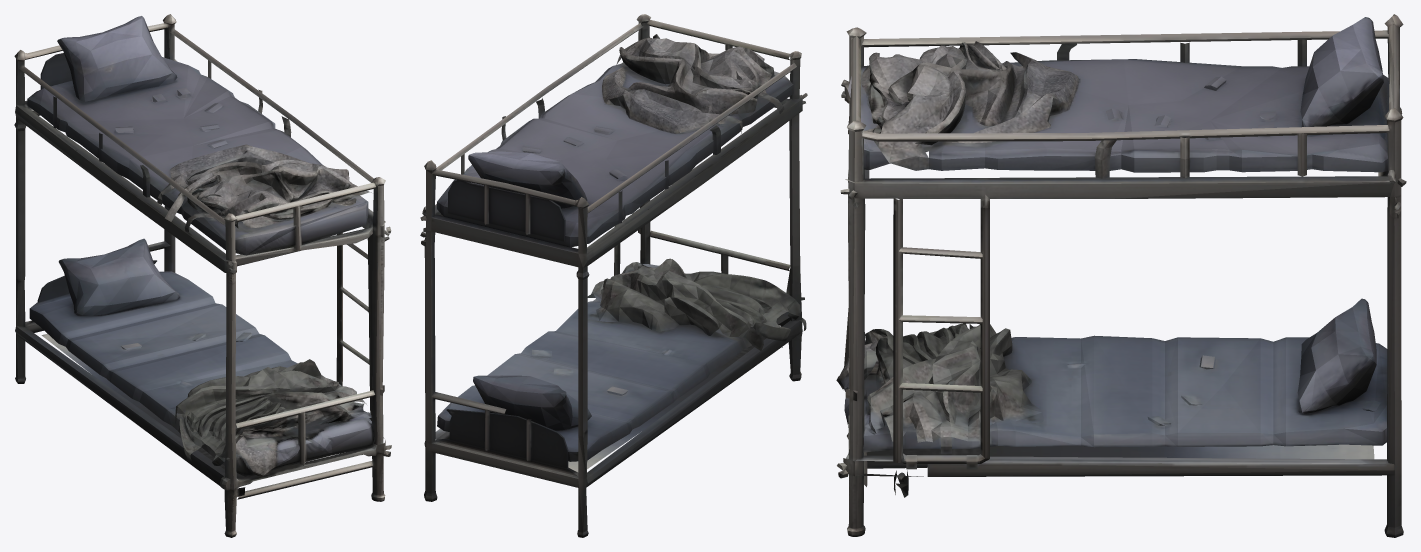
File: Bunk_Bed_2.glb
3 renders of one model, left to right at view 1: azimuth 30°, elevation 25°; view 2: azimuth 150°, elevation 25°; view 3: azimuth 270°, elevation 25°, orthographic. The views are drawn at different scales.
Visible parts, largest first — view 1: Bunk_Bed_2; view 2: Bunk_Bed_2; view 3: Bunk_Bed_2.
Part boxes in pixels (left/top/right/bottom): Bunk_Bed_2: left=14, top=14, right=391, bottom=537; Bunk_Bed_2: left=420, top=14, right=807, bottom=537; Bunk_Bed_2: left=836, top=14, right=1406, bottom=537.
Size of the model in its own units: 0.4326 by 0.7676 by 0.897.
1 material, 1 textured.
